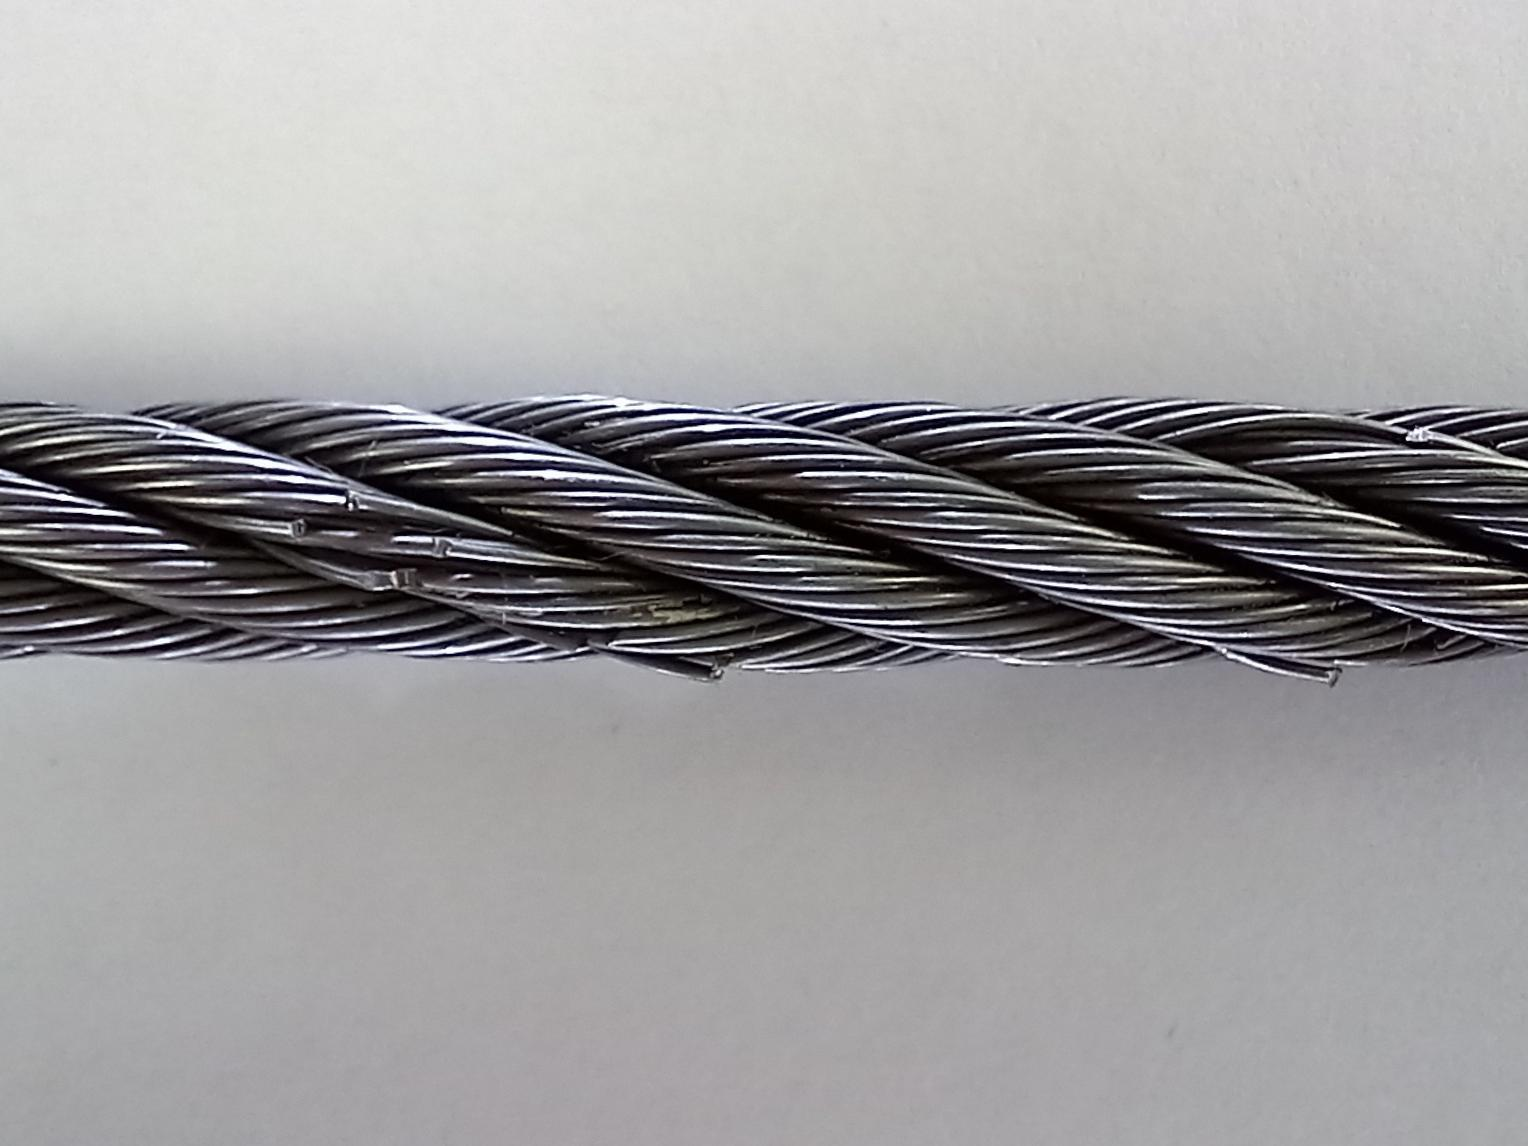break: (644, 636, 769, 692), (372, 539, 466, 602), (273, 486, 374, 543)
